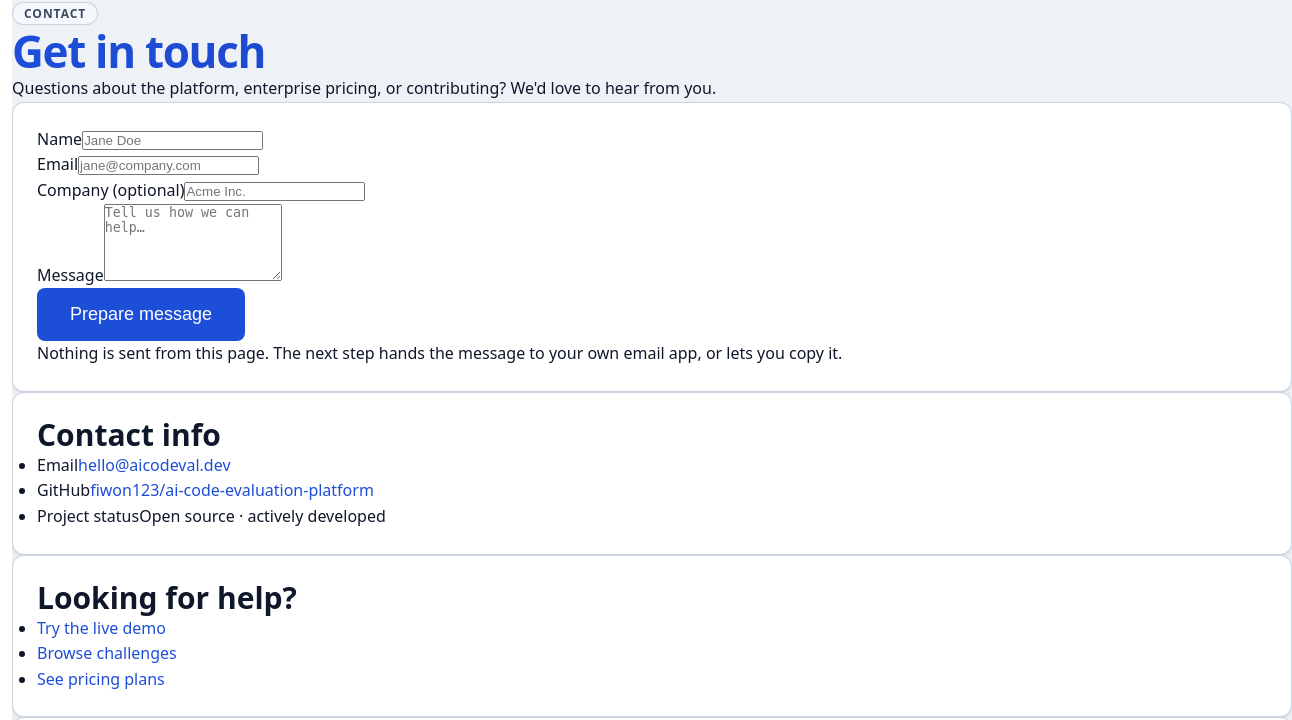
it: Contact › returns to the form with the message intact when editing
Type "Jane" into the field labelled "Name" at (173, 140), box x1=82 y1=131 x2=263 y2=150
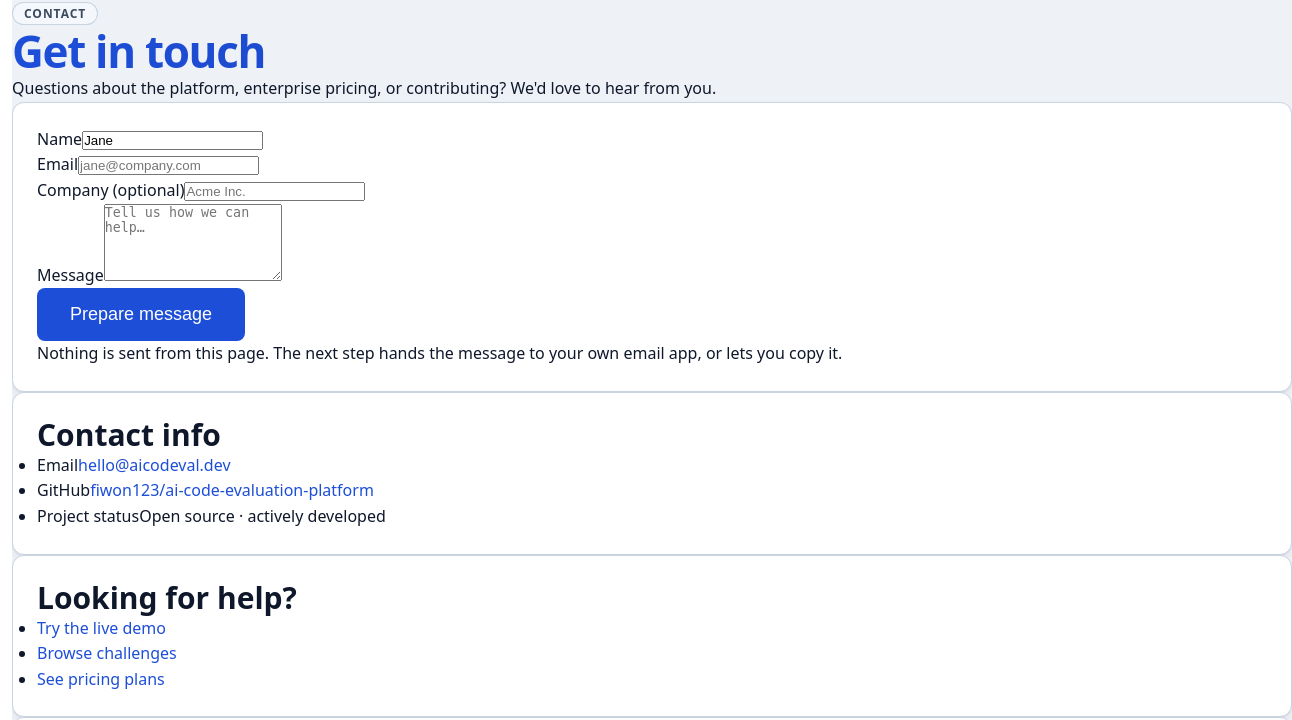
Type "jane@example.com" into the field labelled "Email" at (169, 166), box x1=78 y1=156 x2=259 y2=175
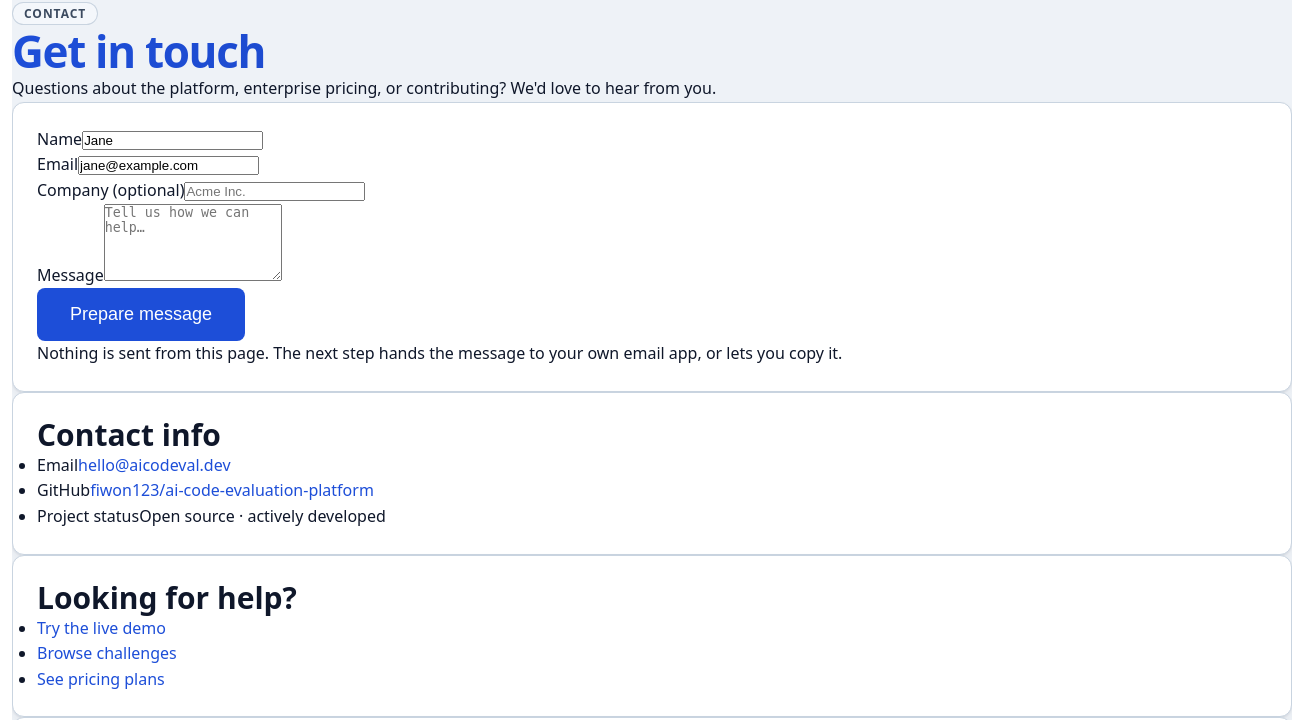
Type "Acme" into the field labelled "Company (optional)" at (275, 192), box x1=184 y1=182 x2=366 y2=201
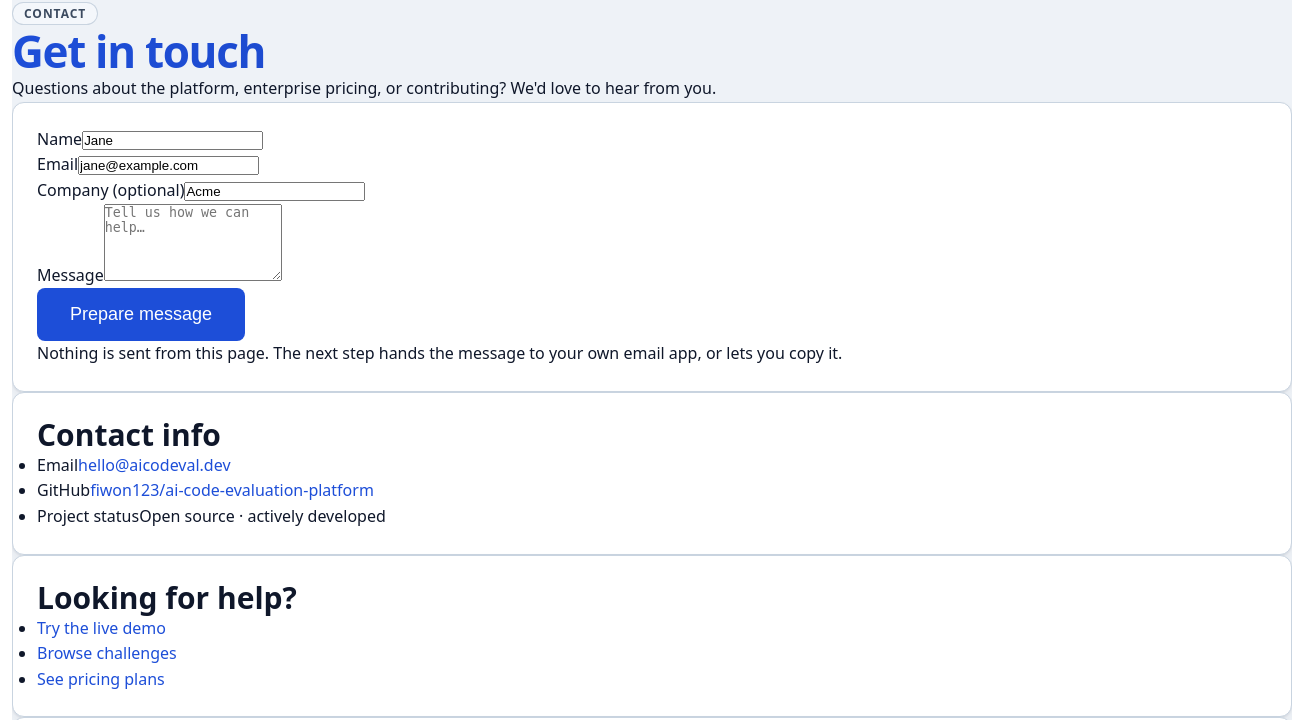
Type "Hello!" into the text box labelled "Message" at (193, 242), box x1=104 y1=204 x2=282 y2=281
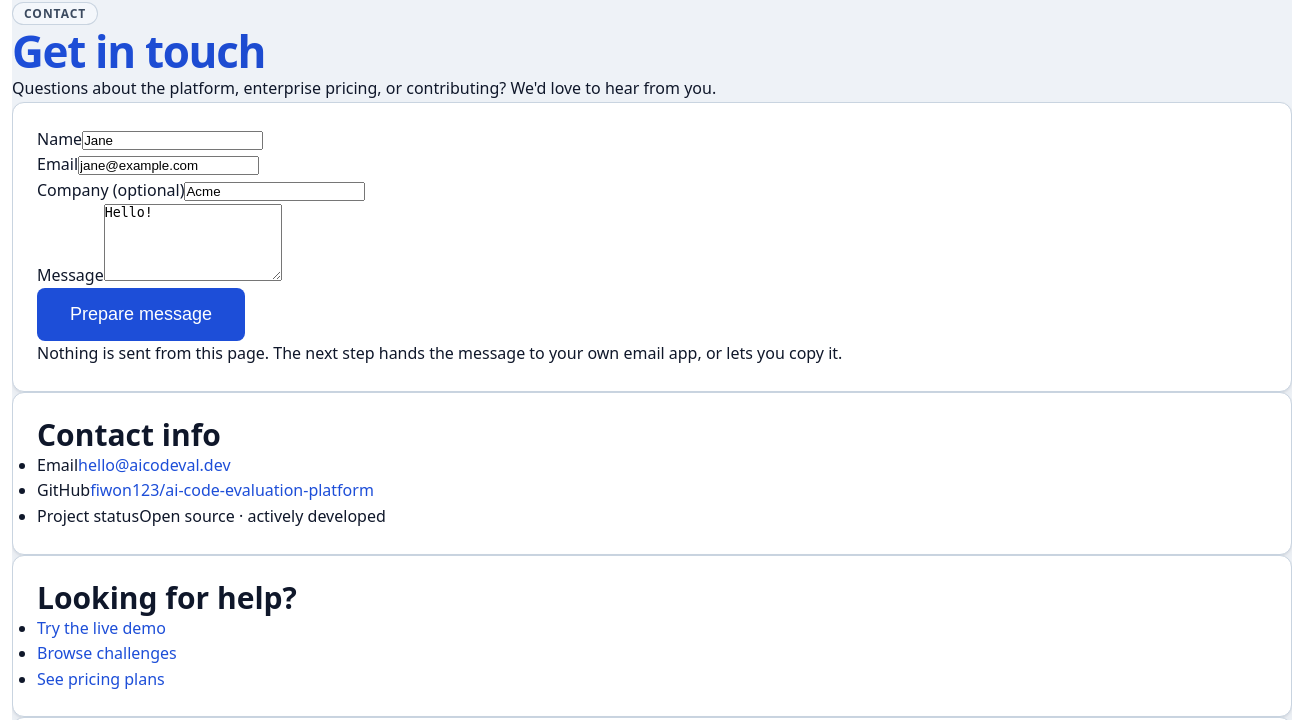
Click the button "Prepare message" at (141, 315), box x1=37 y1=288 x2=245 y2=341
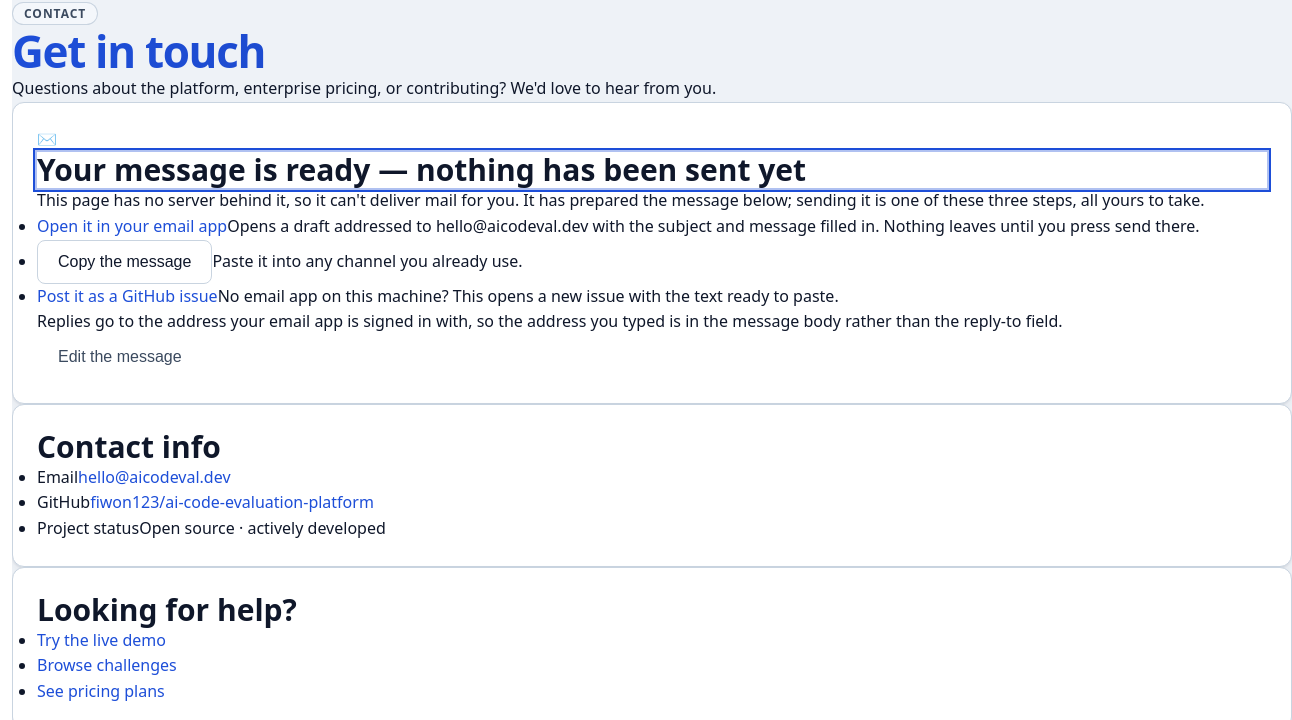
Click the button "Edit the message" at (120, 357), box x1=37 y1=335 x2=203 y2=379
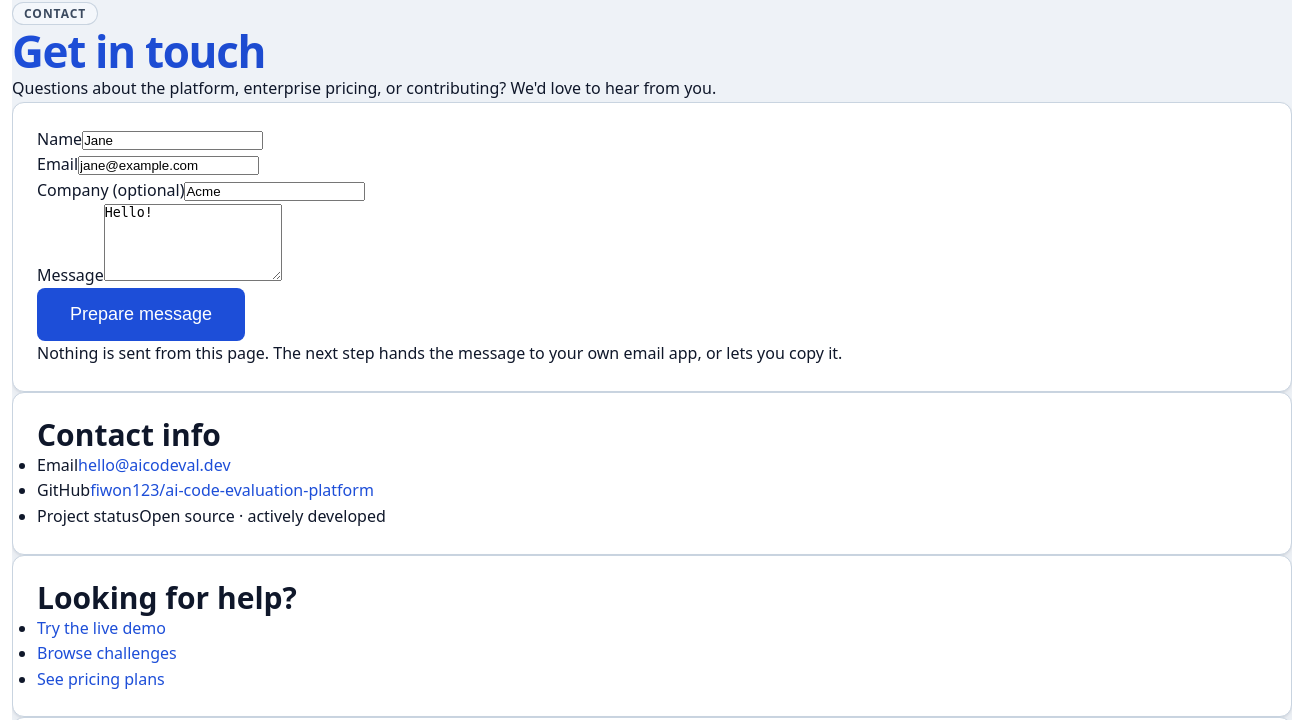
Expected: the text box labelled "Message" holds "Hello!", x1=104 y1=204 x2=282 y2=281
Expected: the field labelled "Name" holds "Jane", x1=82 y1=131 x2=263 y2=150
